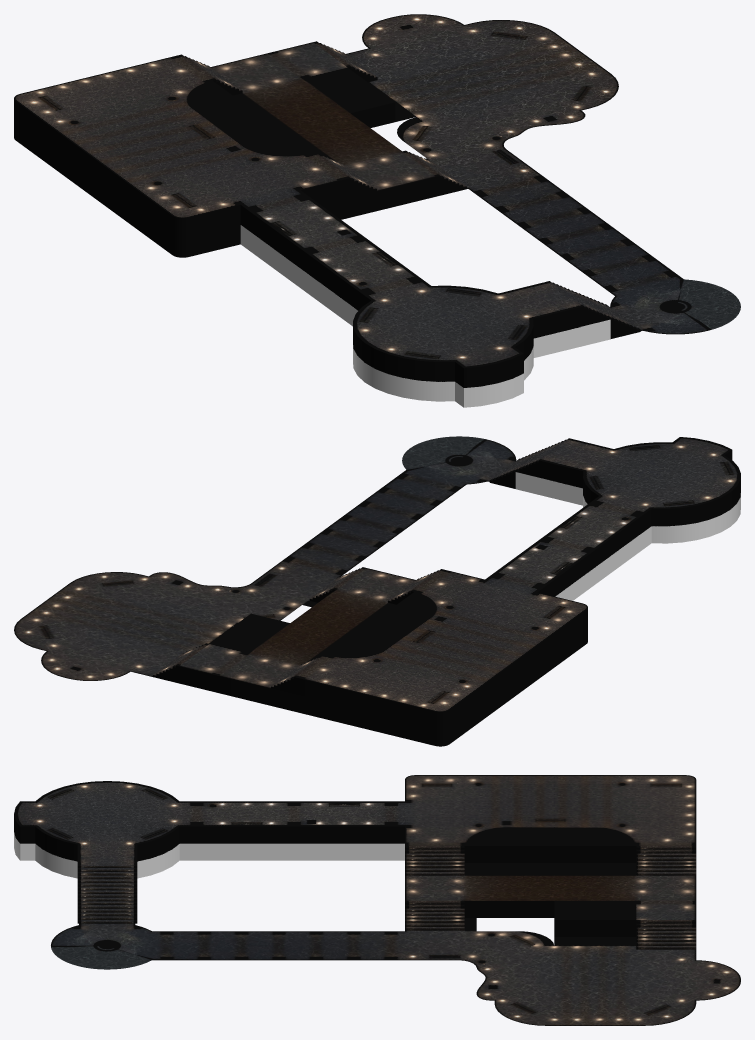
File: Museum_Floor.glb
The picture shows the model from 3 angles, top to bottom: view 1: azimuth 30°, elevation 25°; view 2: azimuth 150°, elevation 25°; view 3: azimuth 270°, elevation 25°; orthographic projection. The views are drawn at different scales.
Parts seen in each view (by area): view 1: First Floor, Third Floor, Entrance Fixed Third Floor, Second Floor, Entrance Fixed Second Floor, Small Stairs.002, Small Stairs.001, Small Stairs.005, Small Stairs.003; view 2: First Floor, Third Floor, Entrance Fixed Third Floor, Second Floor, Entrance Fixed Second Floor, Small Stairs.002, Small Stairs.006, Small Stairs, Small Stairs.003; view 3: First Floor, Third Floor, Entrance Fixed Third Floor, Second Floor, Entrance Fixed Second Floor, Small Stairs, Small Stairs.006, Small Stairs.002, Small Stairs.003, Small Stairs.001, Small Stairs.005.
Part boxes in pixels (box(x1,y1,x2,y2)): First Floor: box(346, 14, 740, 334); Third Floor: box(14, 55, 346, 237); Entrance Fixed Third Floor: box(240, 190, 580, 387); Second Floor: box(14, 42, 436, 257); Entrance Fixed Second Floor: box(240, 225, 610, 407); Small Stairs.002: box(546, 281, 610, 326); Small Stairs.001: box(402, 150, 466, 196); Small Stairs.005: box(312, 153, 376, 198); Small Stairs.003: box(578, 293, 640, 338); First Floor: box(14, 436, 516, 680); Third Floor: box(297, 569, 587, 729); Entrance Fixed Third Floor: box(485, 437, 740, 596); Second Floor: box(179, 568, 587, 746); Entrance Fixed Second Floor: box(515, 472, 740, 600); Small Stairs.002: box(515, 438, 571, 478); Small Stairs.006: box(271, 655, 326, 694); Small Stairs: box(153, 643, 208, 683); Small Stairs.003: box(489, 449, 543, 488); First Floor: box(51, 918, 740, 1025); Third Floor: box(405, 775, 696, 862); Entrance Fixed Third Floor: box(14, 781, 404, 864); Second Floor: box(405, 863, 696, 936); Entrance Fixed Second Floor: box(14, 832, 404, 878); Small Stairs: box(636, 920, 696, 949); Small Stairs.006: box(636, 846, 696, 875); Small Stairs.002: box(77, 864, 137, 893); Small Stairs.003: box(77, 894, 137, 923); Small Stairs.001: box(405, 901, 464, 930); Small Stairs.005: box(405, 846, 464, 875).
Bounding box in the file's own units: 68.67 × 5.04 × 97.37.
7 materials, 7 textured.
